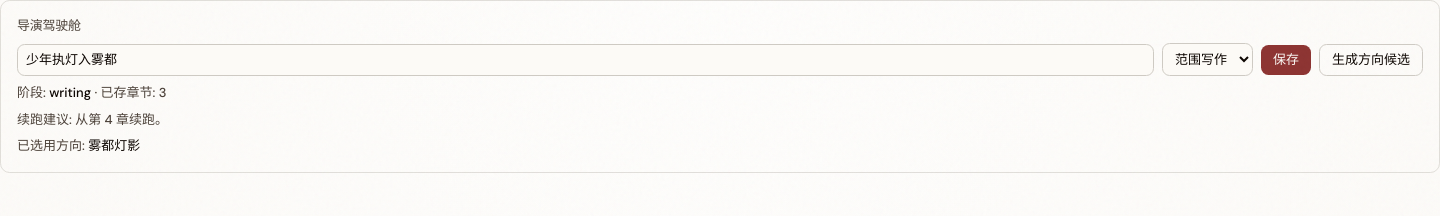
Test case: DirectorPanel 交互（478 号） › 保存失败时错误信息经 notice 透出
Expected: the field with placeholder "一句话灵感…" is shown, [17,44,1154,76]
Click the button "保存": (1286, 60) [1261,45,1311,75]
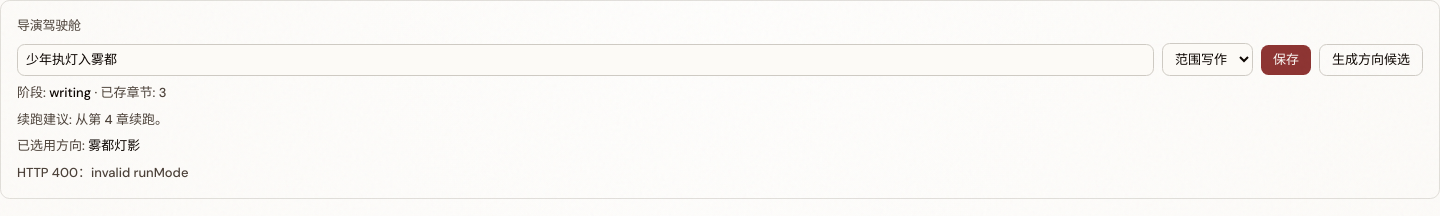
Expected: the text "HTTP 400：invalid runMode" is shown, [17,164,188,181]
